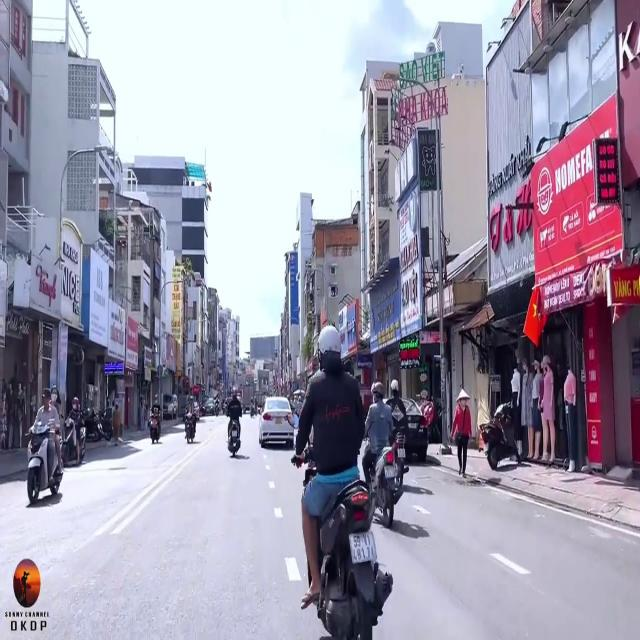bien_trang: (349, 530, 378, 560)
